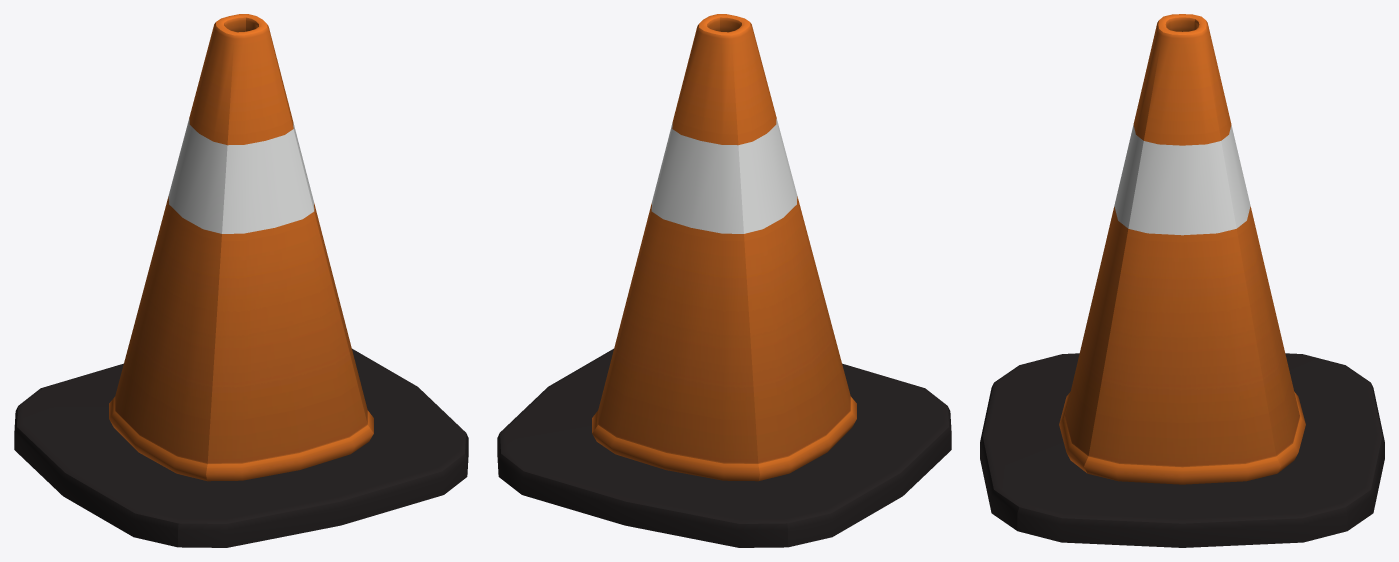
Rendered from traffic cone.glb.
3 views of the same model, side by side, from view 1: azimuth 30°, elevation 25°; view 2: azimuth 150°, elevation 25°; view 3: azimuth 270°, elevation 25° (orthographic).
Parts seen in each view (by area): view 1: ConstructionCone_LOD0; view 2: ConstructionCone_LOD0; view 3: ConstructionCone_LOD0.
Boxes of the visible parts, x1=… form: ConstructionCone_LOD0: x1=14, y1=14, x2=468, y2=547; ConstructionCone_LOD0: x1=497, y1=14, x2=951, y2=547; ConstructionCone_LOD0: x1=980, y1=14, x2=1384, y2=547.
Bounding box in the file's own units: 0.2974 × 0.3415 × 0.2873.
1 material, 1 textured.
